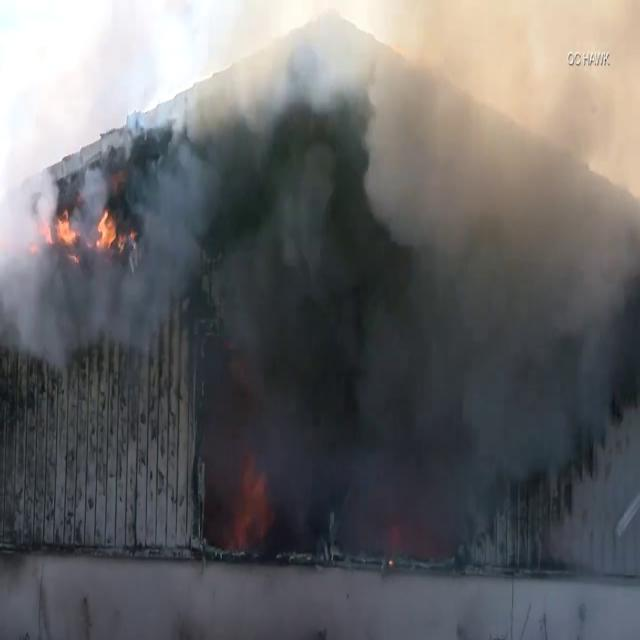Fire: (42, 200, 132, 262)
Smoke: (215, 1, 639, 576), (0, 69, 237, 385)
